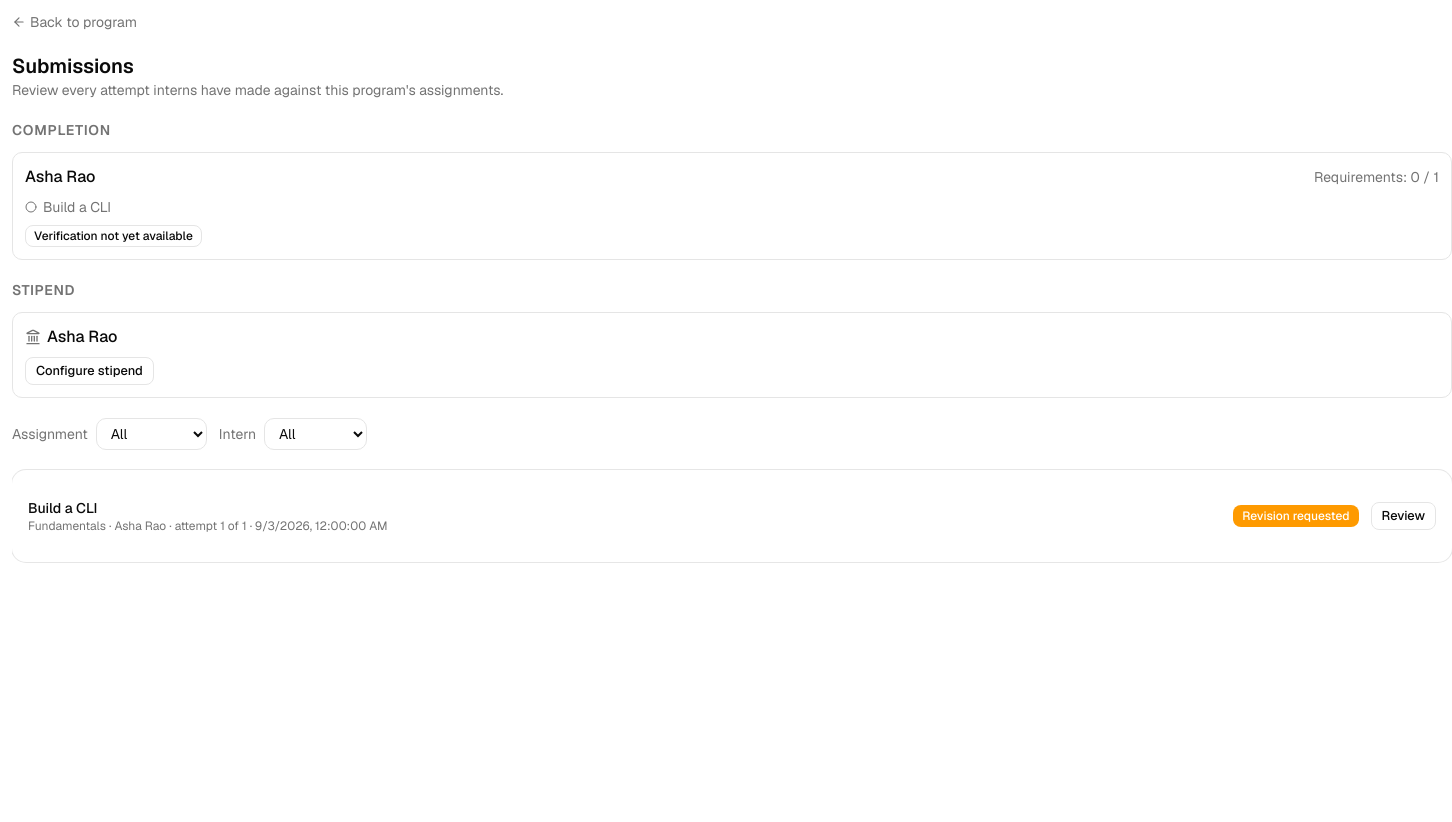
ProgramSubmissionsView › shows NO review actions once a verdict has landed on the attempt
The width and height of the screenshot is (1452, 822).
Click the button "Review".
click(1403, 516)  # box [1371, 502, 1436, 530]
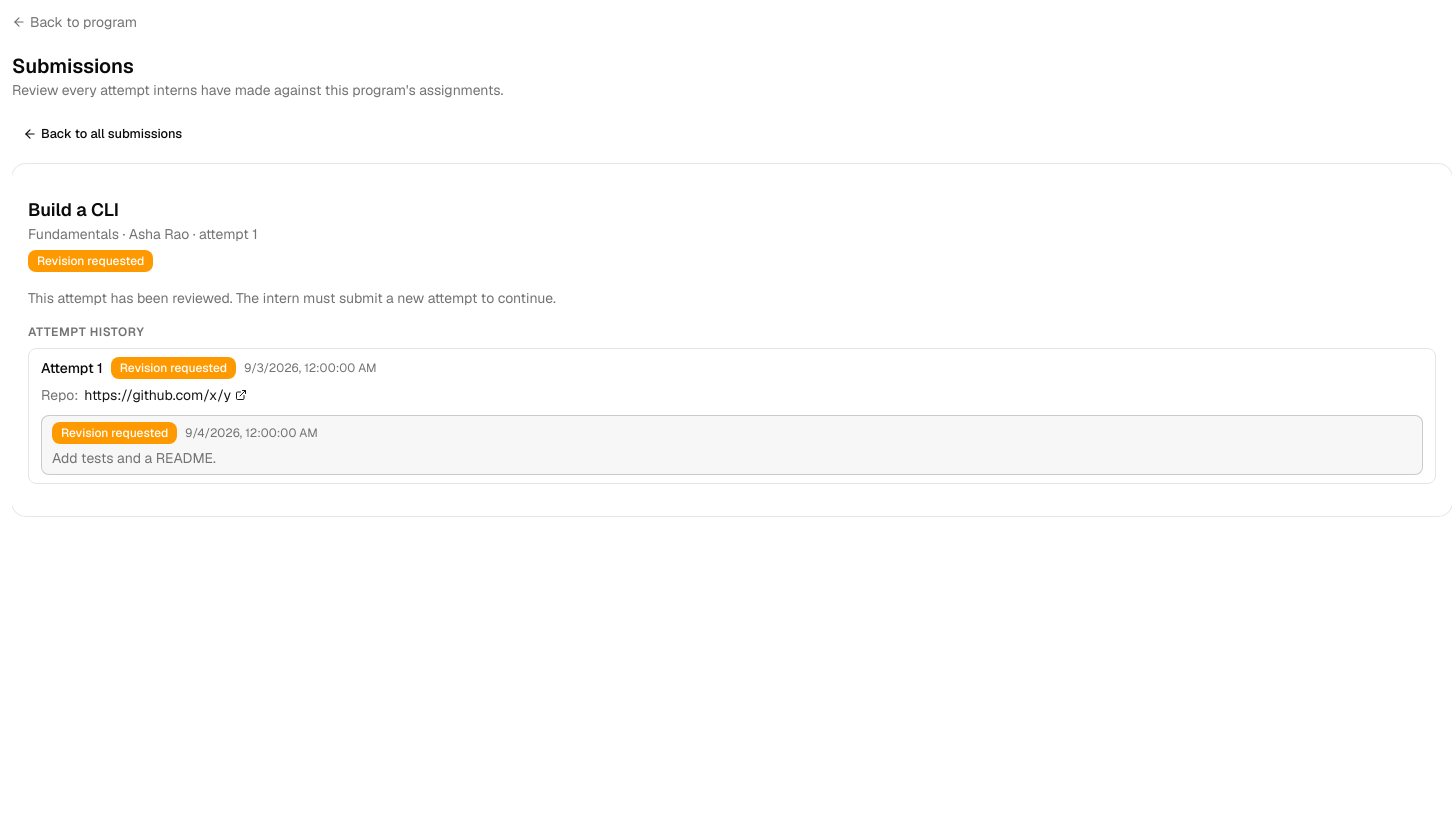
Check: the text "This attempt has been reviewed" is shown, box [28, 289, 556, 307]
Check: the text "Add tests and a README." is shown, box [52, 449, 216, 467]
